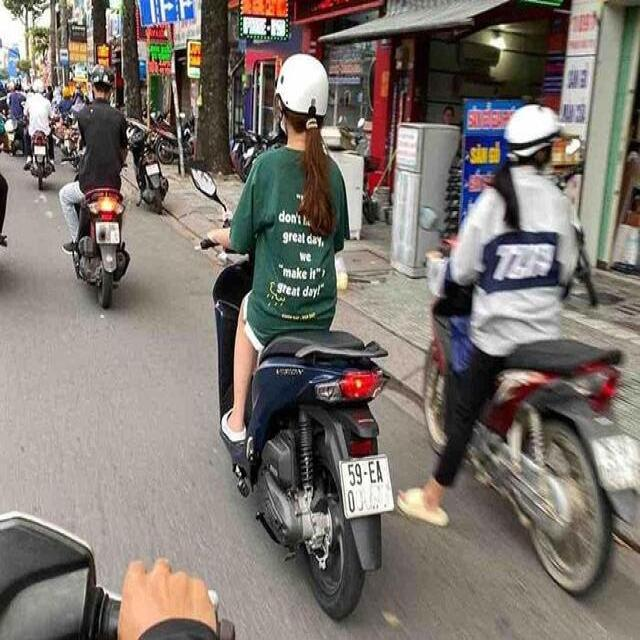motorcycle: (191, 167, 395, 624), (417, 196, 635, 621), (76, 175, 134, 314), (135, 136, 171, 219), (28, 125, 52, 190)
plate: (338, 448, 394, 524), (91, 215, 123, 249)
